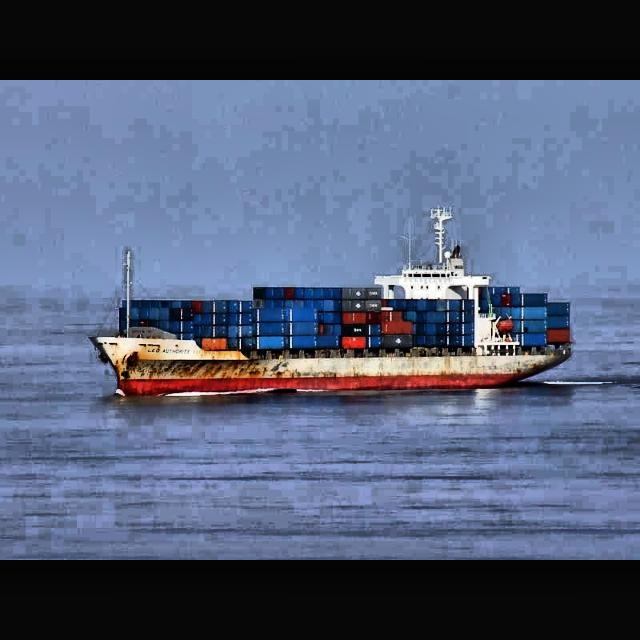container: (89, 204, 574, 398)
